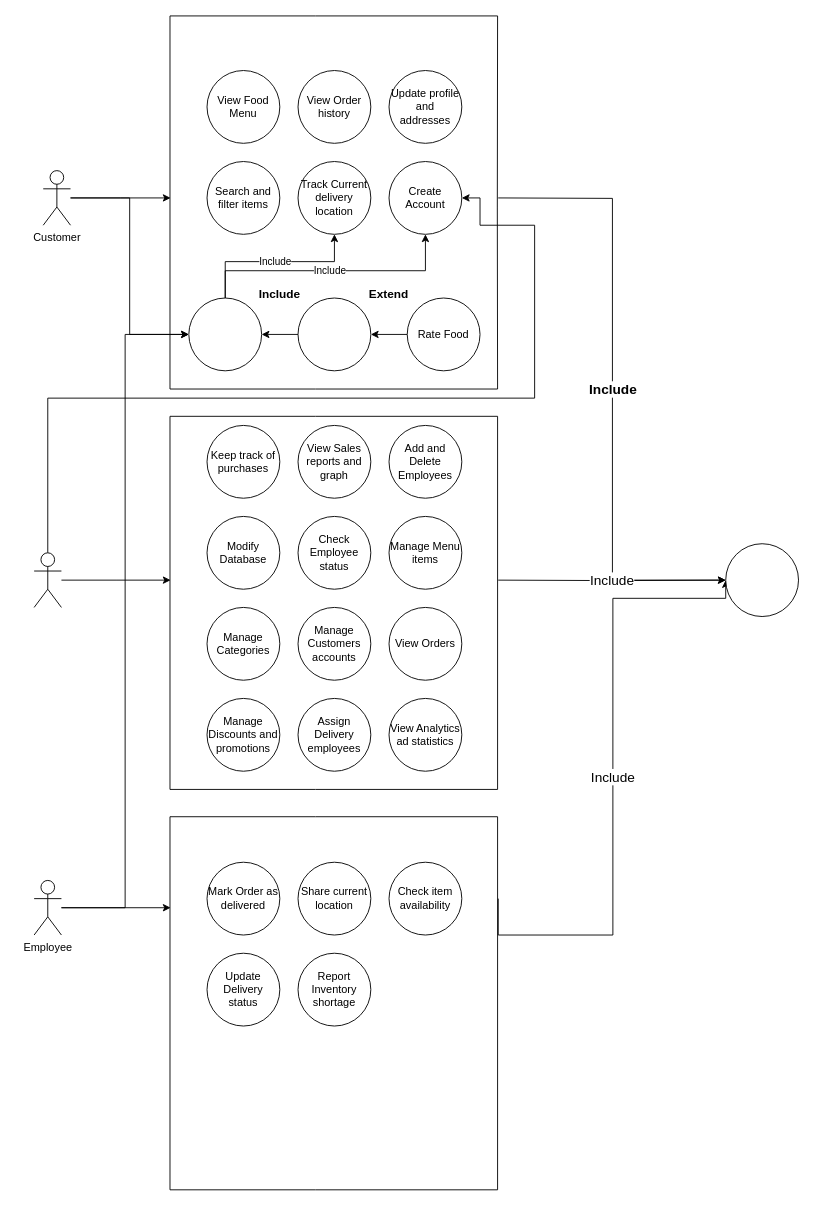
This 814x1207 diagram has some shape labels left out. The shapes that lost their labels are listed below. From the top down, each one's centre as x and y in pixels, then its label:
At [225,334]: "Place Order".
At [334,334]: "Cancel Order".
At [47,579]: "Administrator".
At [762,580]: "Login to Account".
